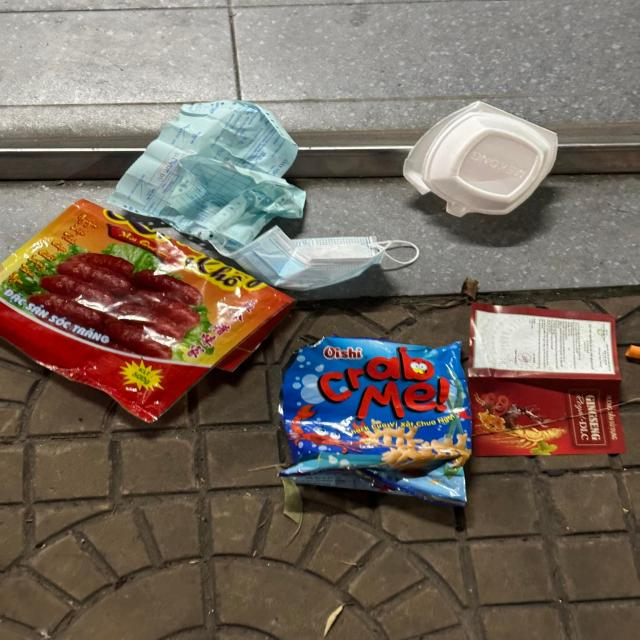foam box: (403, 101, 558, 217)
mask: (207, 226, 419, 290)
paper: (107, 103, 308, 249), (468, 303, 626, 455)
snack package: (0, 197, 296, 424), (279, 334, 467, 506)
